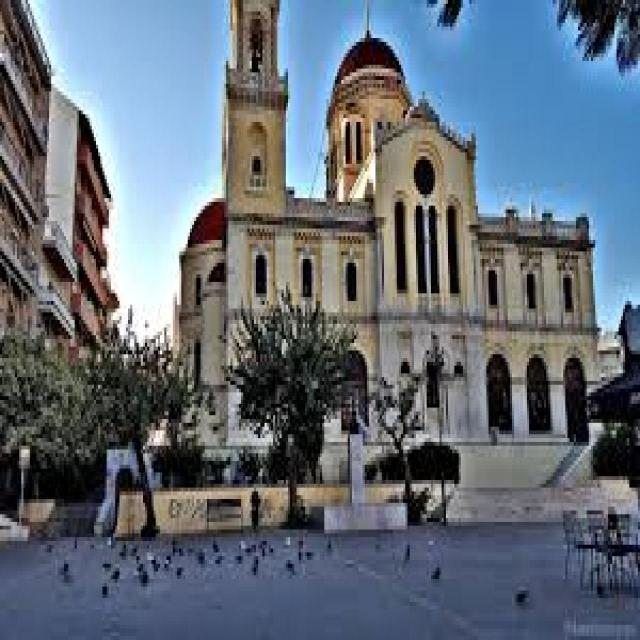Agios Minas: (174, 5, 606, 484)
